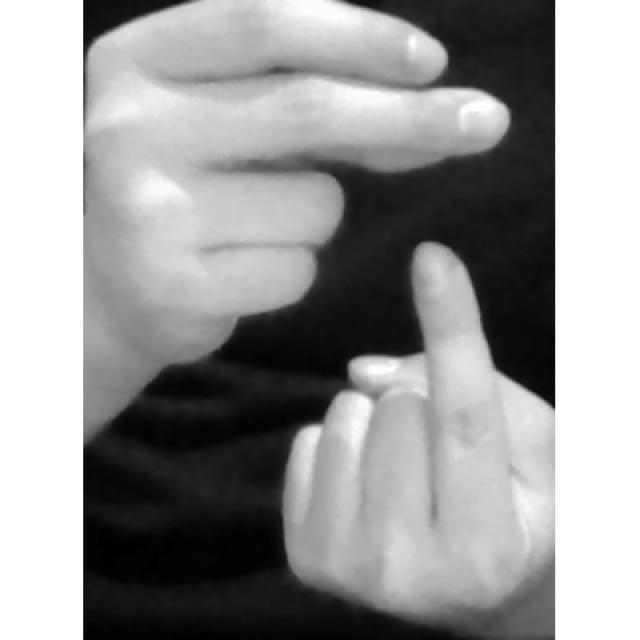I-: (84, 0, 556, 639)
